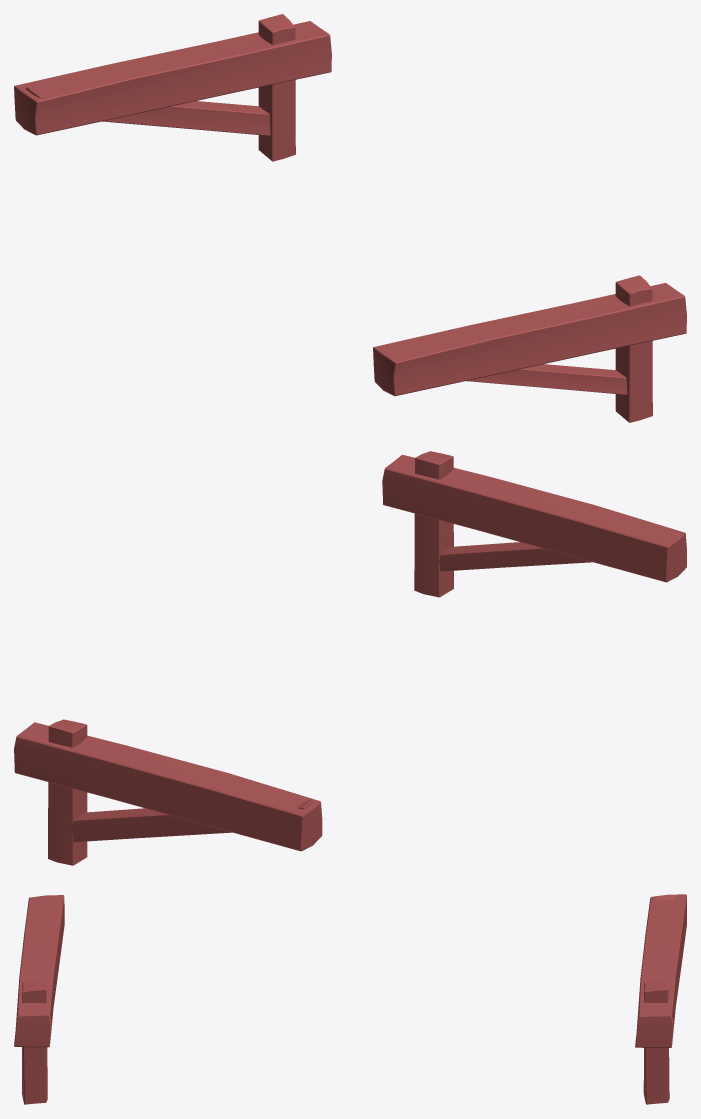
File: Shelf_Grp_04B_Lod0.fbx
The picture shows the model from 3 angles, top to bottom: view 1: azimuth 30°, elevation 25°; view 2: azimuth 150°, elevation 25°; view 3: azimuth 270°, elevation 25°; orthographic projection. The views are drawn at different scales.
Parts seen in each view (by area): view 1: Shelf_Grp_04B_Lod0; view 2: Shelf_Grp_04B_Lod0; view 3: Shelf_Grp_04B_Lod0.
Boxes of the visible parts, x1,y1,x2,y2 form: Shelf_Grp_04B_Lod0: [14, 14, 686, 422]; Shelf_Grp_04B_Lod0: [14, 451, 686, 865]; Shelf_Grp_04B_Lod0: [14, 894, 686, 1104].
Size of the model in its own units: 95.16 by 41.6 by 220.
